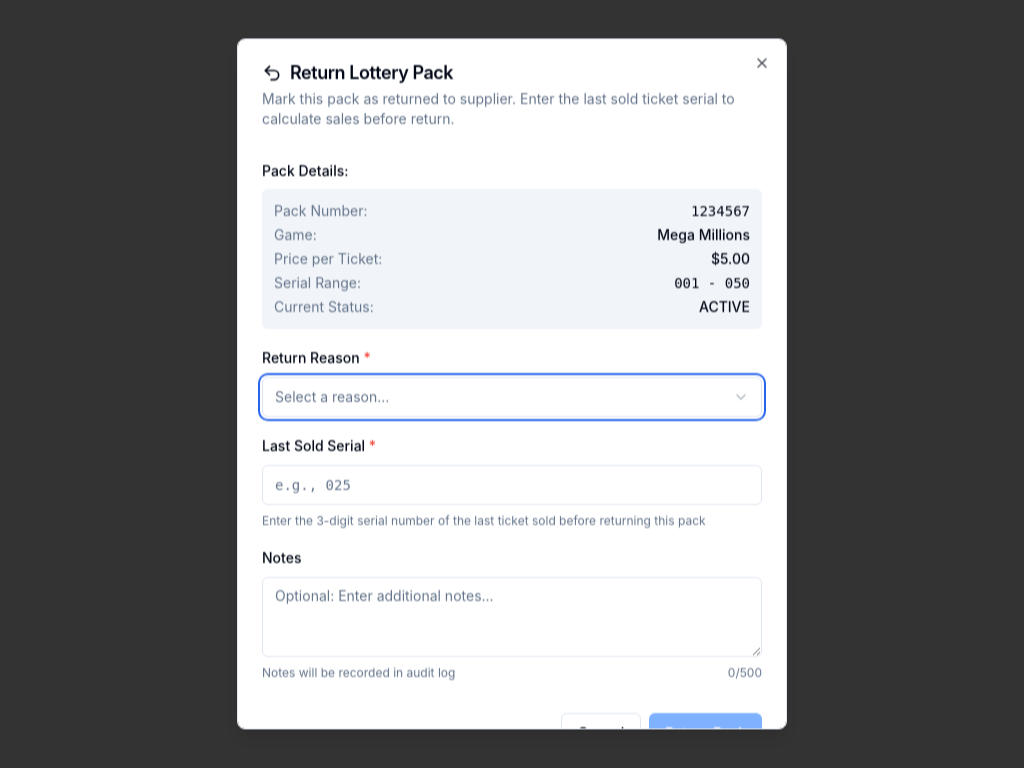
Test case: ReturnPackDialog Component › Form Validation › VAL-004: [P1] should require notes when reason is OTHER
The width and height of the screenshot is (1024, 768).
# User selects OTHER reason
Click the dropdown with test id "return-reason-select".
click(332, 397)  # box [262, 377, 762, 417]
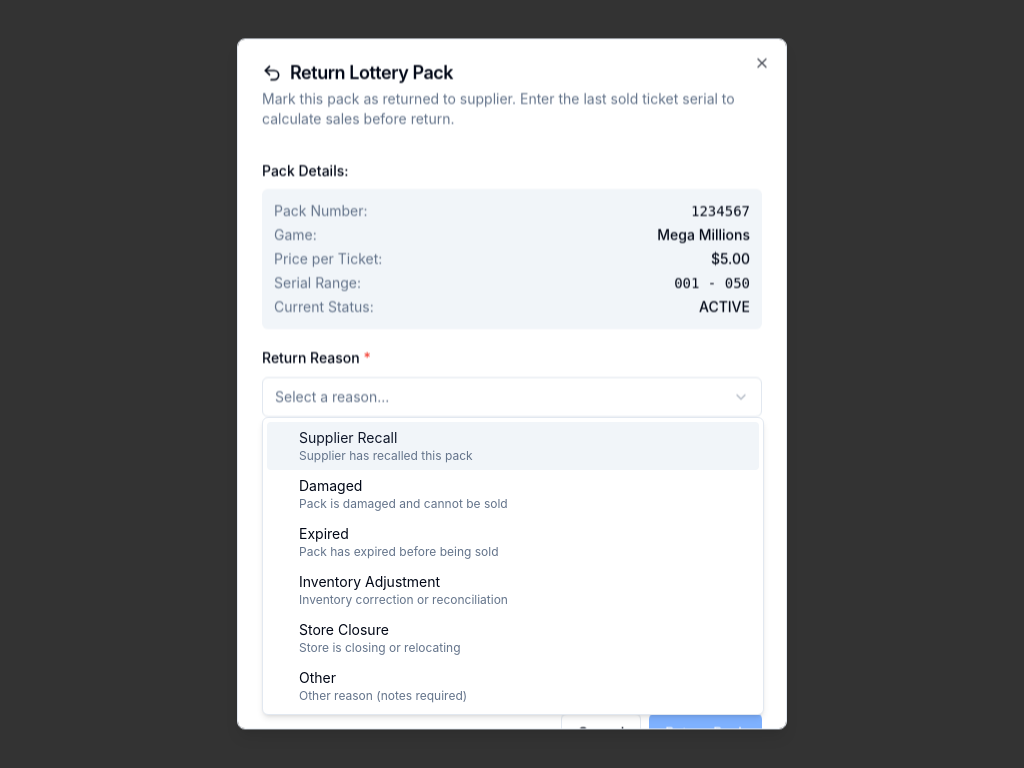
Click the text "Other".
click(318, 678)  # box [299, 669, 336, 686]
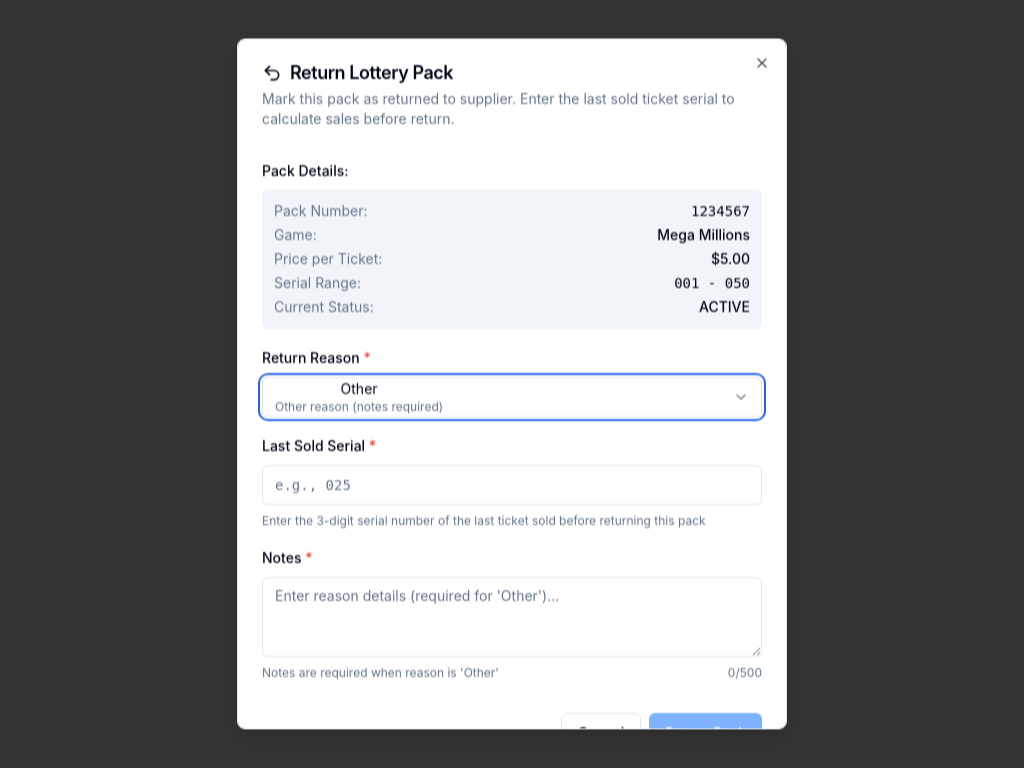
expect the text "Notes are required when reason is 'Other'" is shown: met, box [262, 665, 499, 681]
